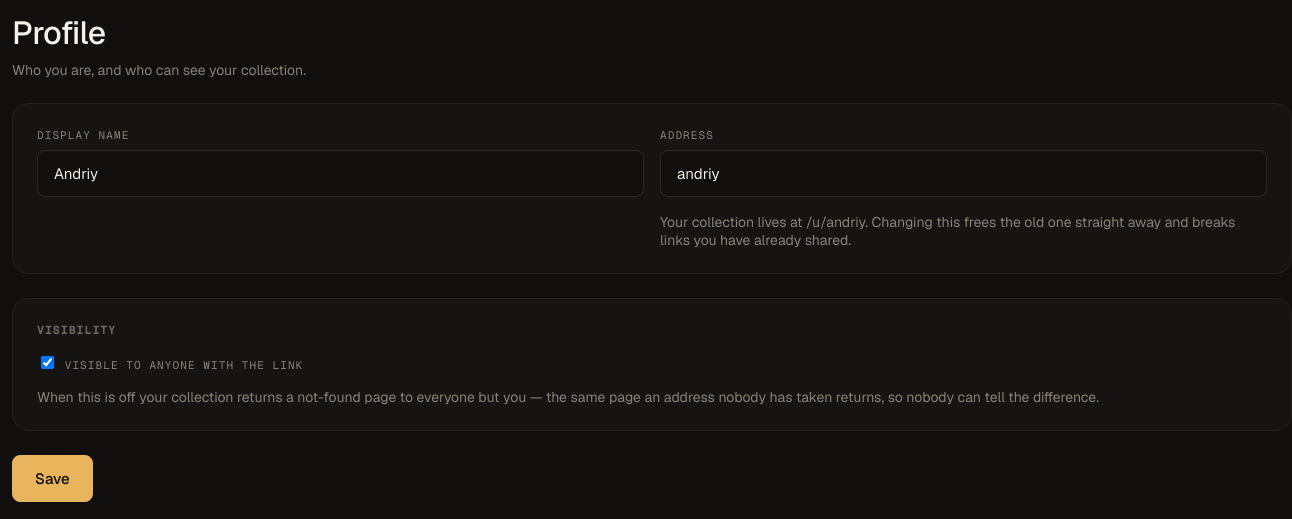
Test case: AccountPage › saves a new address
Replace the text in the field labelled "Address" with "andriy-d" at (964, 174), box [660,150,1267,197]
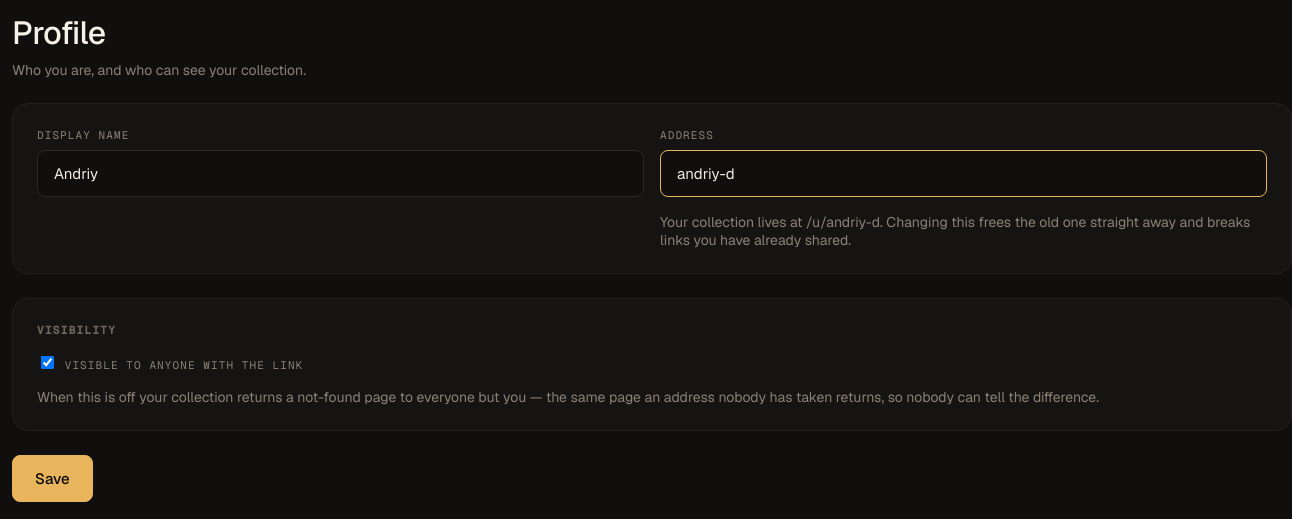
Click the button "Save" at (52, 478), box [12,455,93,502]
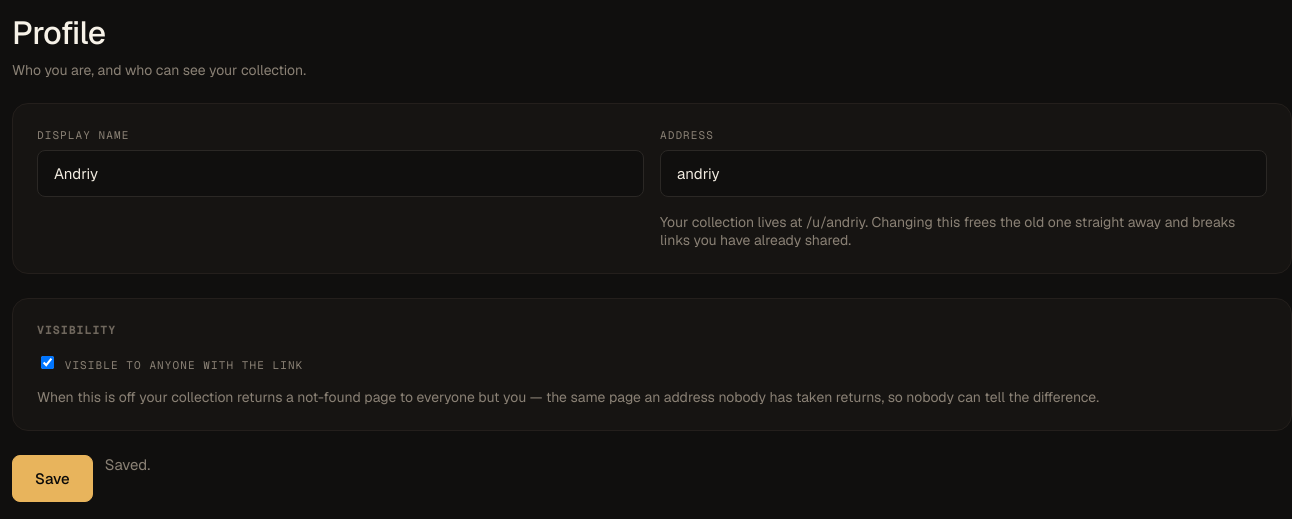
Check: the message shows "Saved", box [105,455,150,474]
